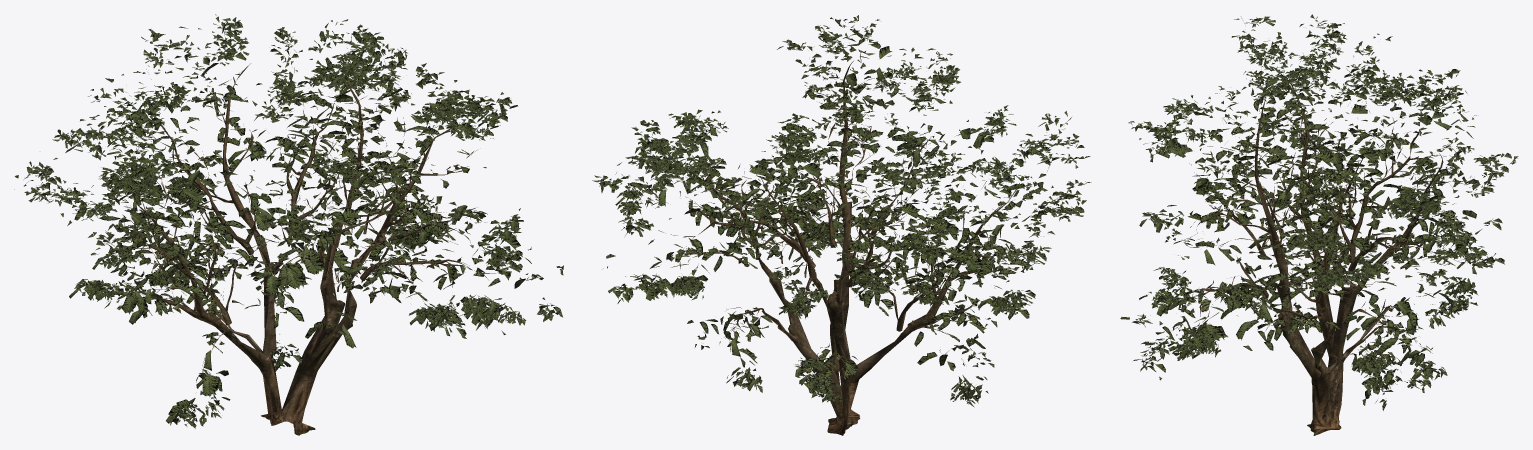
The model's file is arbre_jacaranda_lod0.glb.
The picture shows the model from 3 angles, left to right: view 1: azimuth 30°, elevation 25°; view 2: azimuth 150°, elevation 25°; view 3: azimuth 270°, elevation 25°; orthographic projection. The views are drawn at different scales.
Parts seen in each view (by area): view 1: jacaranda_tree_LOD0; view 2: jacaranda_tree_LOD0; view 3: jacaranda_tree_LOD0.
Boxes of the visible parts, left/top/right/bottom form: jacaranda_tree_LOD0: left=14, top=14, right=563, bottom=435; jacaranda_tree_LOD0: left=592, top=15, right=1091, bottom=435; jacaranda_tree_LOD0: left=1120, top=14, right=1518, bottom=435.
Bounding box in the file's own units: 24.19 × 19.43 × 18.66.
3 materials, 3 textured.
